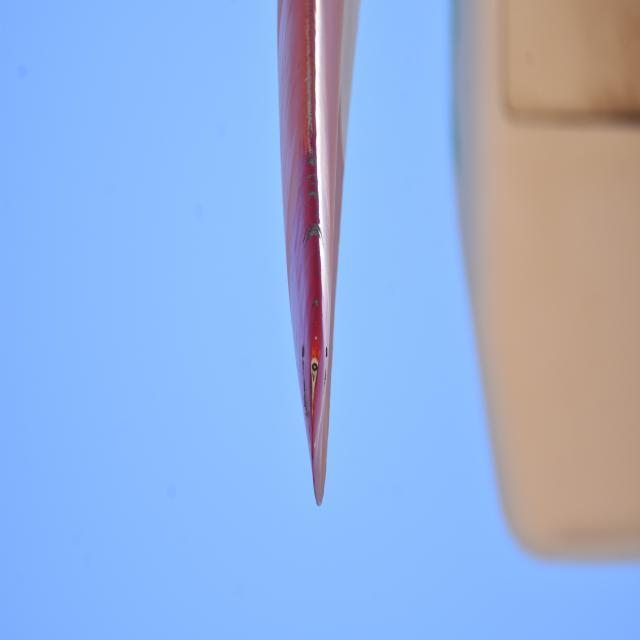Coating_defects: (306, 348, 326, 412), (301, 219, 326, 246)
EROSION: (302, 20, 324, 201)
